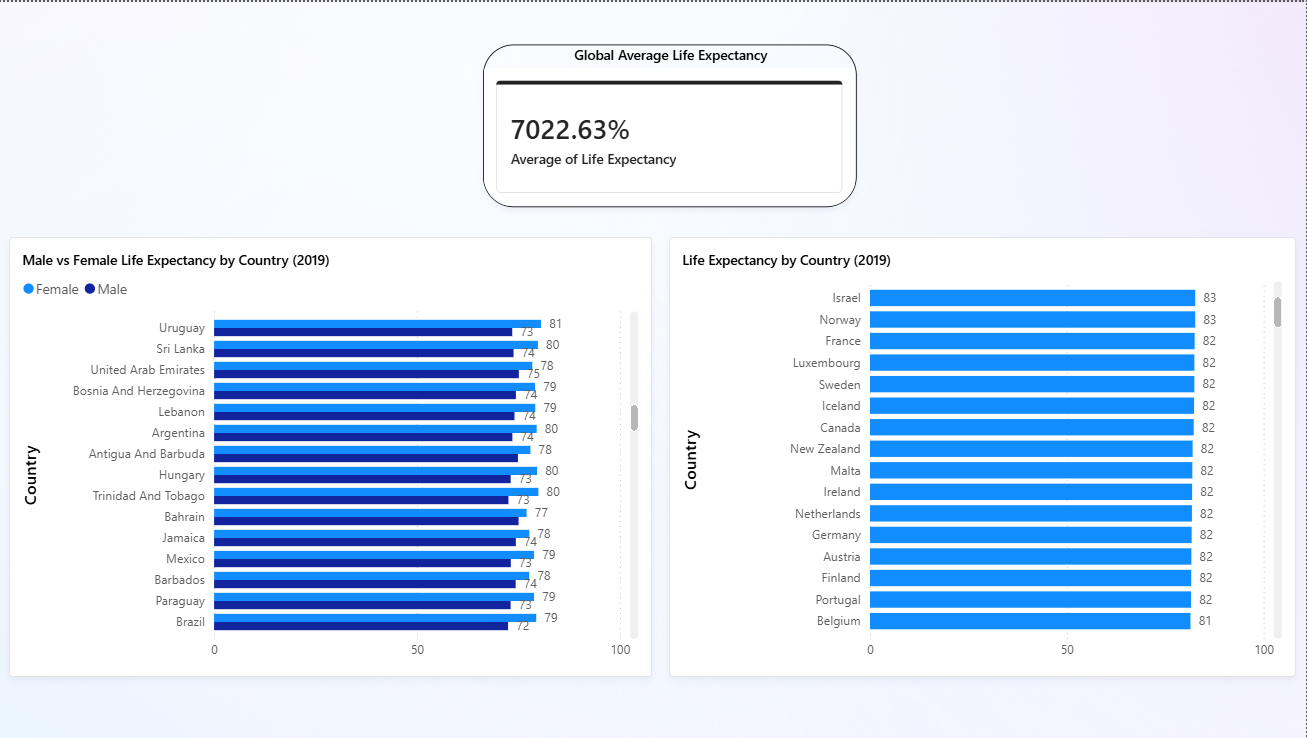

The page's visual inventory and layout, read from the dashboard file:
{"tool":"powerbi","page":{"name":"Page 1","canvas":[1280,720],"ordinal":0},"visuals":[{"type":"barChart","title":"Life Expectancy by Country (2019)","fields":{"Category":["lifeExpectancyAtBirth.Country"],"Y":["Sum(lifeExpectancyAtBirth.Life Expectancy)"]},"box":[656.7,229.9,612.6,430.4],"z":0},{"type":"cardVisual","title":" Global Average Life Expectancy","fields":{"Data":["Avg(lifeExpectancyAtBirth.Life Expectancy)"]},"box":[474.5,41.6,365.6,159],"z":1},{"type":"clusteredBarChart","title":"Male vs Female Life Expectancy by Country (2019)","fields":{"Y":["Sum(lifeExpectancyAtBirth.Life Expectancy)"],"Category":["lifeExpectancyAtBirth.Country"],"Series":["lifeExpectancyAtBirth.Sex"]},"box":[11,229.9,628.5,430.4],"z":2}]}

Visuals, with their boxes in screenshot pixels (x1, y1, x2, y2), scaled from the page's 1280x720 canvas onto the 1307x738 screenshot:
"Life Expectancy by Country (2019)" barChart: locate(671, 236, 1296, 677)
" Global Average Life Expectancy" cardVisual: locate(485, 43, 858, 206)
"Male vs Female Life Expectancy by Country (2019)" clusteredBarChart: locate(11, 236, 653, 677)
